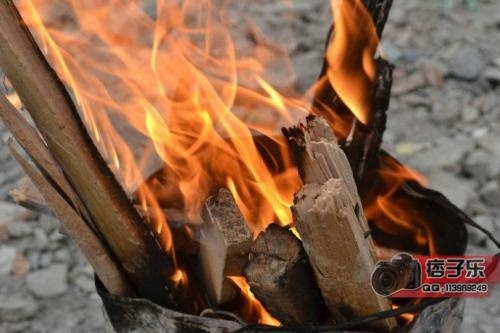fire: (13, 5, 312, 287), (302, 0, 383, 123), (365, 154, 439, 256), (229, 273, 282, 324)
